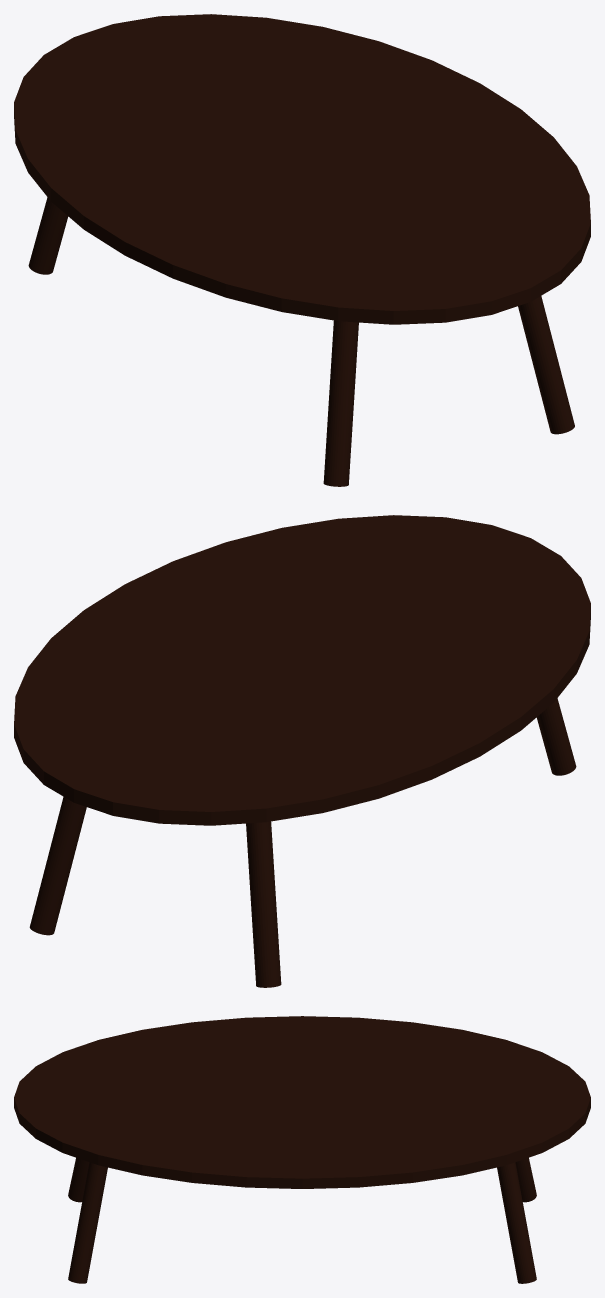
Rendered from table.obj.
3 renders of one model, top to bottom at view 1: azimuth 30°, elevation 25°; view 2: azimuth 150°, elevation 25°; view 3: azimuth 270°, elevation 25°, orthographic. The views are drawn at different scales.
Parts seen in each view (by area): view 1: Cylinder; view 2: Cylinder; view 3: Cylinder.
Boxes of the visible parts, left/top/right/bottom form: Cylinder: left=14, top=14, right=590, bottom=486; Cylinder: left=14, top=515, right=590, bottom=987; Cylinder: left=14, top=1016, right=590, bottom=1283.
Size of the model in its own units: 1 by 0.4121 by 1.5.
